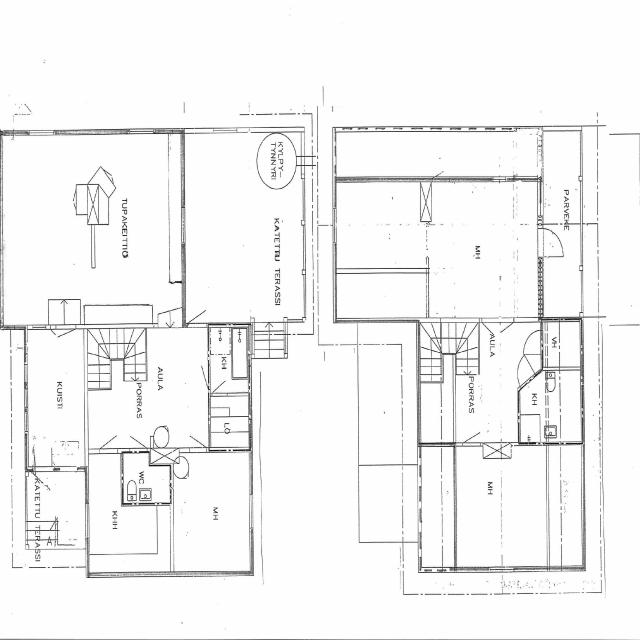door: (511, 353, 536, 389), (538, 228, 564, 258), (33, 468, 55, 503), (187, 295, 207, 328), (56, 324, 76, 357), (462, 416, 481, 447), (100, 423, 118, 453), (432, 152, 450, 182), (482, 318, 500, 348), (189, 424, 207, 453), (130, 424, 147, 453), (191, 365, 210, 389), (524, 330, 543, 354), (212, 371, 227, 396), (500, 318, 514, 341), (50, 324, 56, 336)
